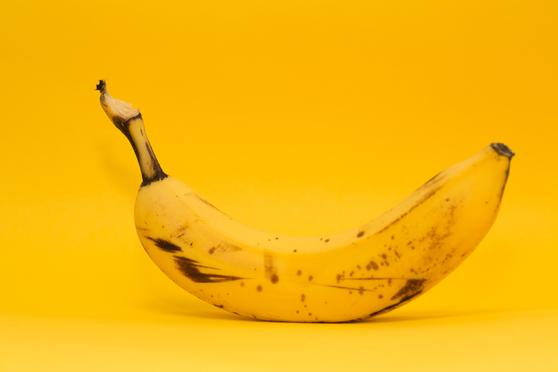banana: (83, 78, 521, 333)
